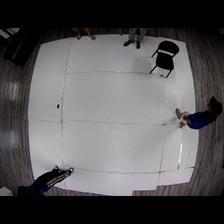normal: (174, 97, 223, 131)
